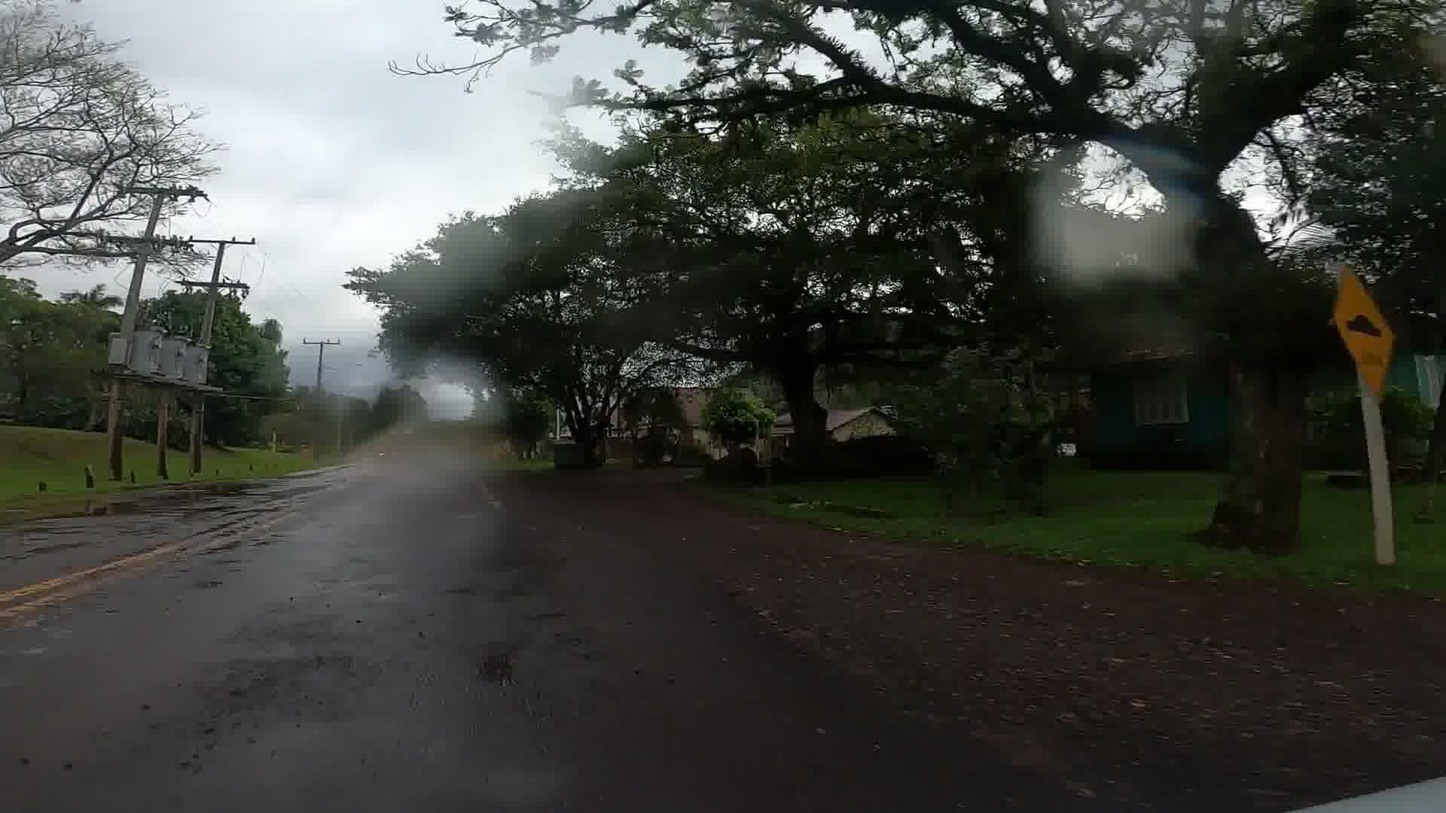A-18: (1329, 272, 1393, 392)
